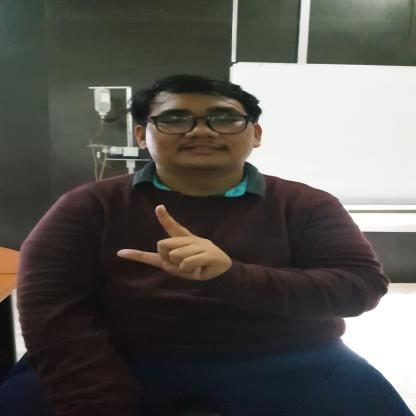L: (111, 202, 236, 283)
